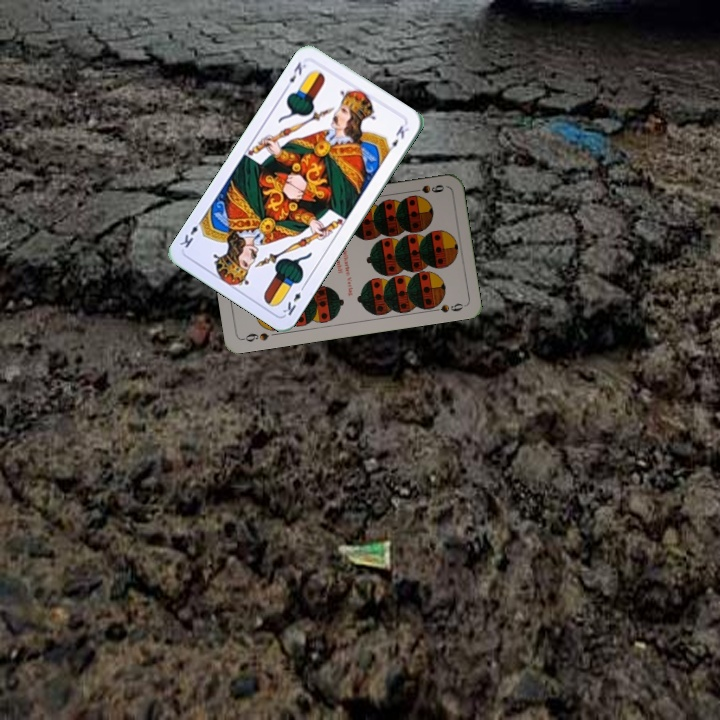EK: (279, 281, 308, 318), (281, 58, 309, 93)
S9: (407, 180, 447, 196), (239, 328, 271, 344)
